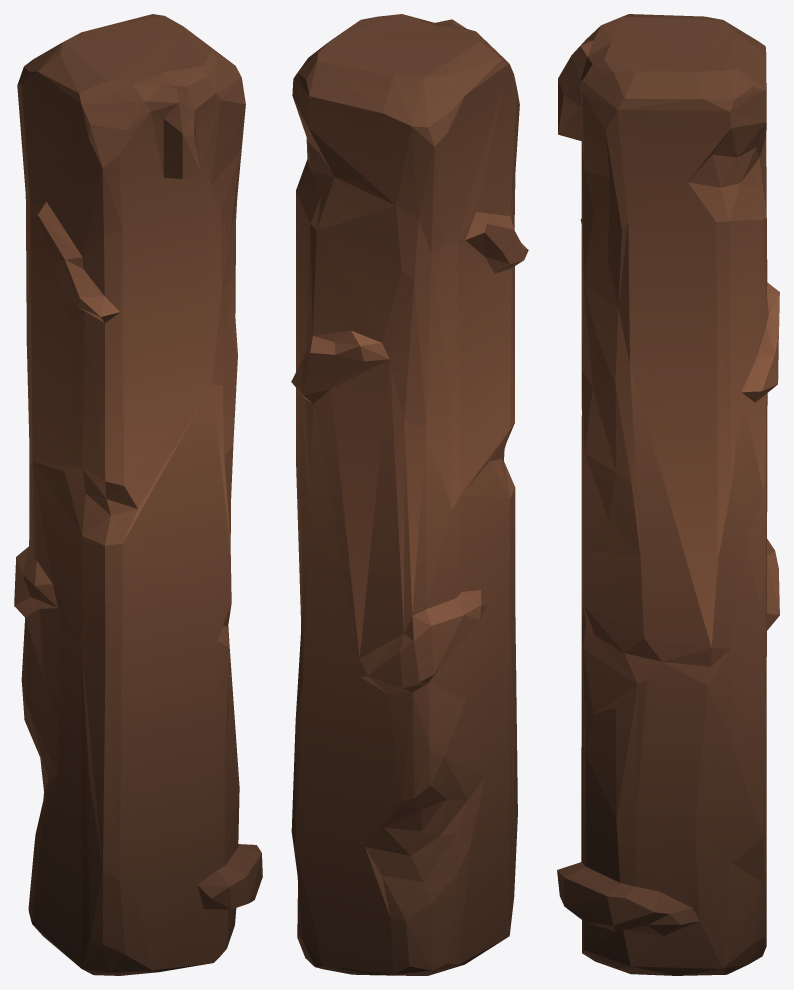
File: woodenpillar01.fbx
The picture shows the model from 3 angles, left to right: view 1: azimuth 30°, elevation 25°; view 2: azimuth 150°, elevation 25°; view 3: azimuth 270°, elevation 25°; orthographic projection.
Parts seen in each view (by area): view 1: WoodenPillar01; view 2: WoodenPillar01; view 3: WoodenPillar01.
Boxes of the visible parts, box(x1,y1,x2,y2) form: WoodenPillar01: box(14, 14, 262, 975); WoodenPillar01: box(291, 14, 528, 975); WoodenPillar01: box(557, 14, 779, 975).
Bounding box in the file's own units: 88.89 × 399 × 89.1.
